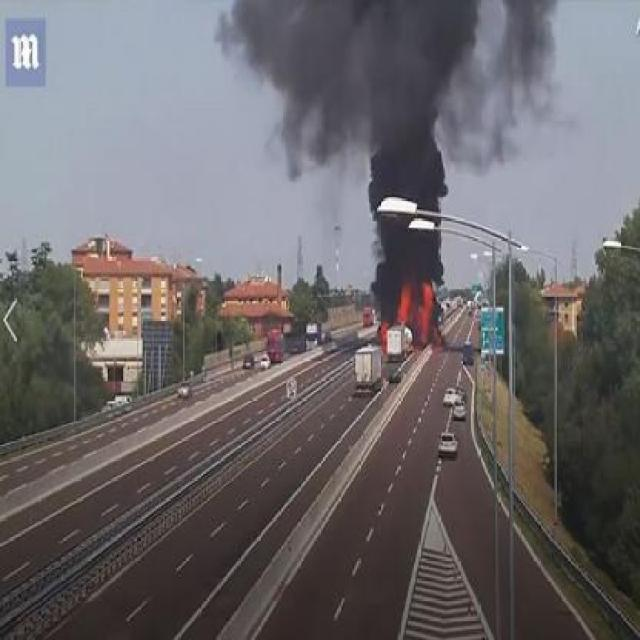Fire: (419, 288, 431, 346), (397, 281, 412, 324), (378, 320, 390, 351)
Smoke: (241, 0, 477, 68), (374, 134, 446, 288), (274, 67, 438, 130), (510, 0, 556, 69), (370, 284, 392, 312)
